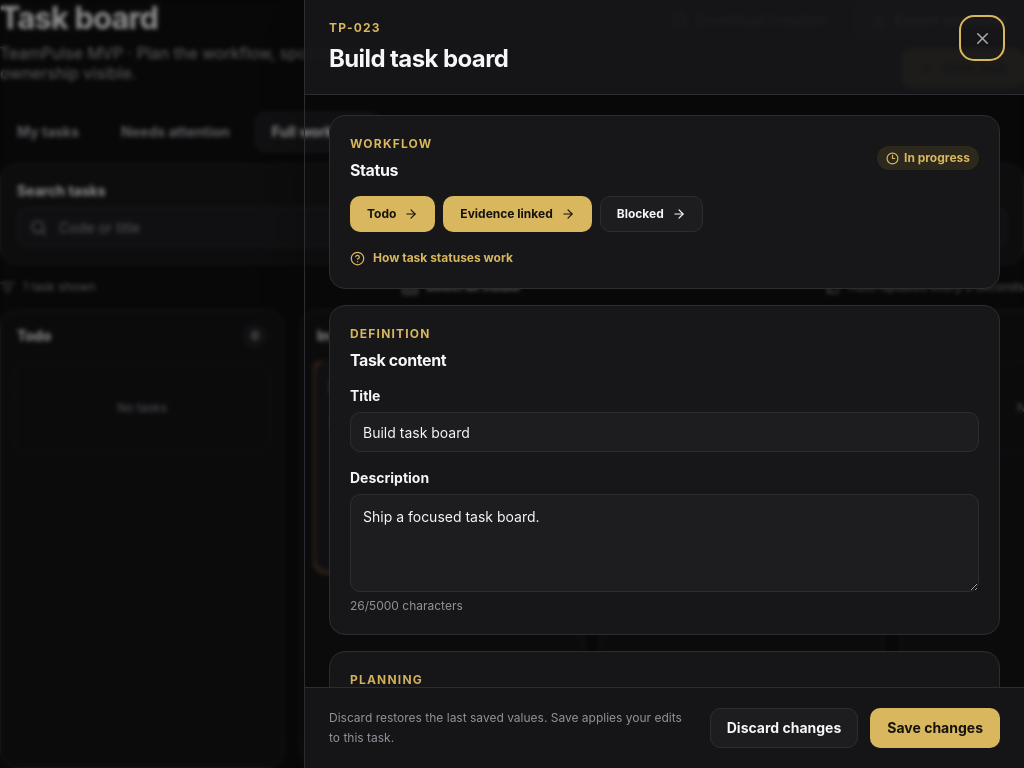
Test: task board flow › explains a stale update and retries explicitly with the latest row version
Check: the text "Discard restores the last saved values. Save applies your edits to this task." is shown, box [329, 708, 694, 748]
Replace the text in the field labelled "Title" with "Updated by leader": (664, 432) [351, 413, 978, 451]
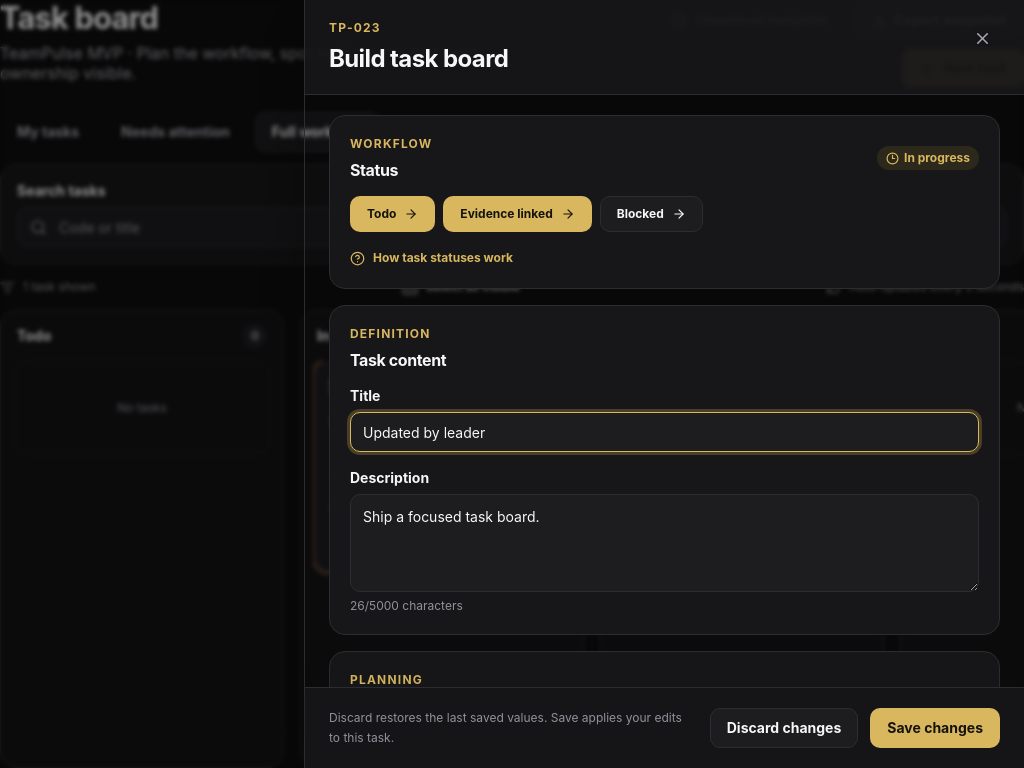
Click the button "Save changes": (935, 728) [870, 708, 1000, 748]
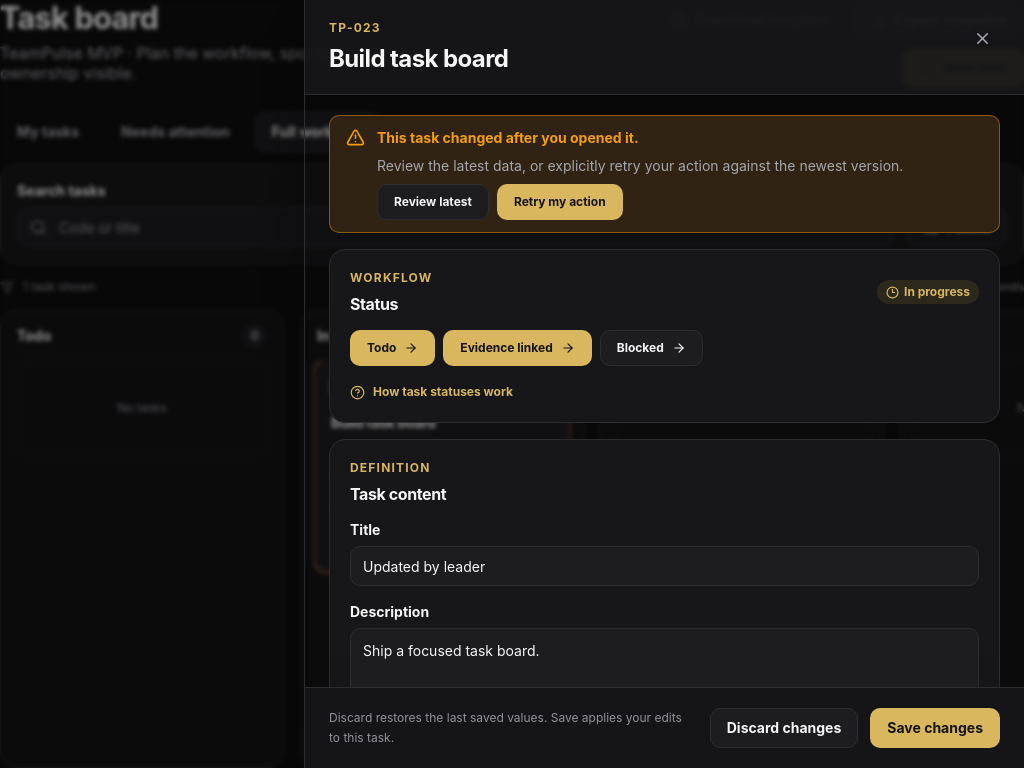
Check: the text "This task changed after you opened it." is shown, box [377, 129, 639, 146]
Click the button "Retry my action": (560, 202) [497, 184, 623, 220]
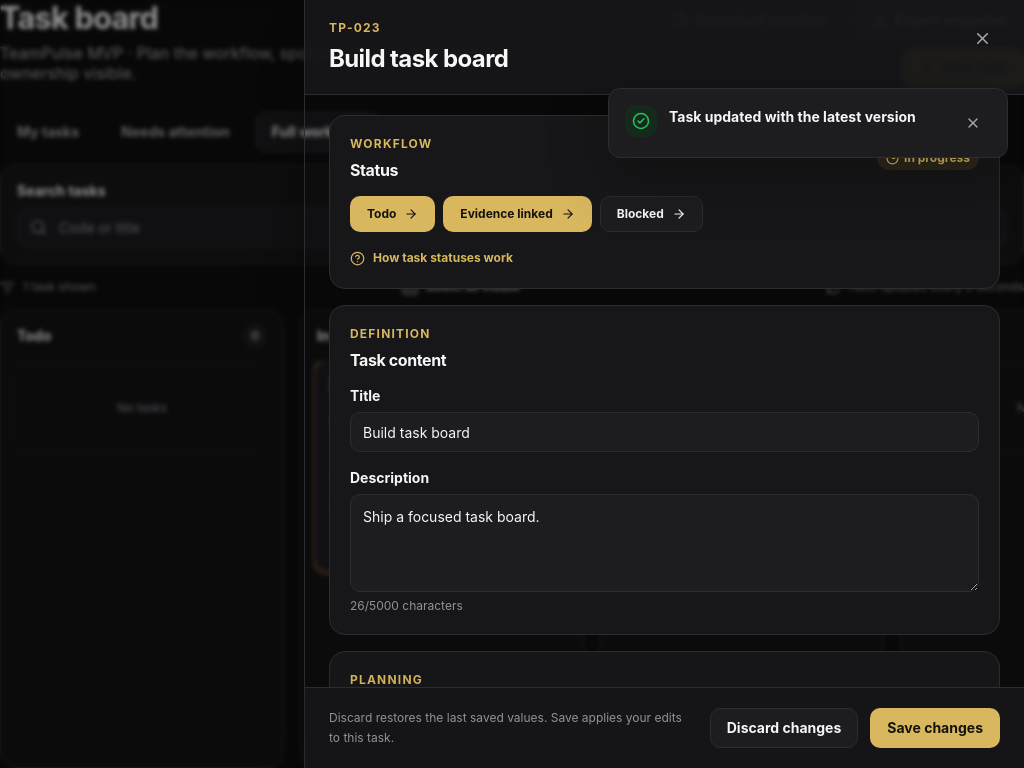
Check: the text "Task updated with the latest version" is shown, box [669, 107, 943, 127]
